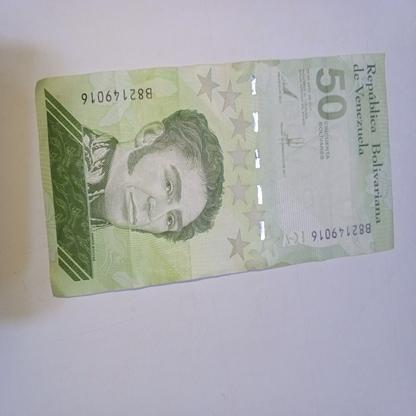fifty-front-vef: (34, 52, 396, 298)
